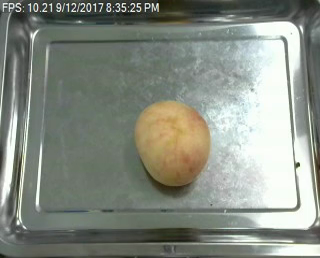Peach: (134, 99, 211, 186)
